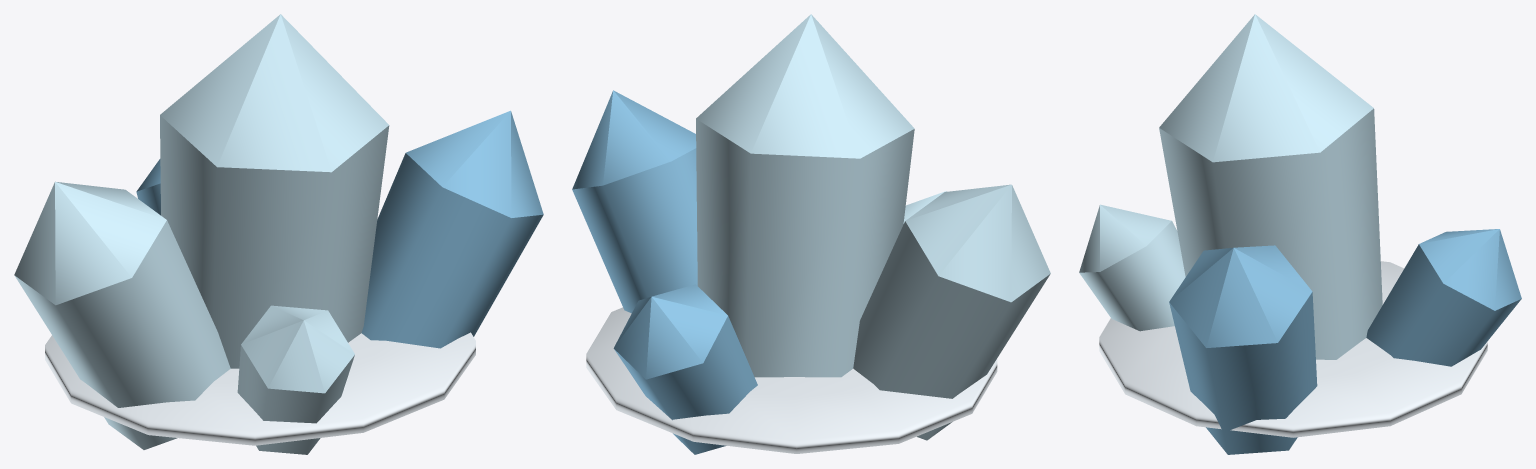
File: IceChunk.glb
The picture shows the model from 3 angles, left to right: view 1: azimuth 30°, elevation 25°; view 2: azimuth 150°, elevation 25°; view 3: azimuth 270°, elevation 25°; orthographic projection. The views are drawn at different scales.
Parts seen in each view (by area): view 1: Body; view 2: Body; view 3: Body.
Part boxes in pixels (bbox=[...]): Body: bbox=[14, 14, 543, 454]; Body: bbox=[572, 14, 1050, 454]; Body: bbox=[1079, 14, 1521, 454].
Size of the model in its own units: 4.31 by 3.4 by 3.69.
Materials: 1 (1 with a texture image).
